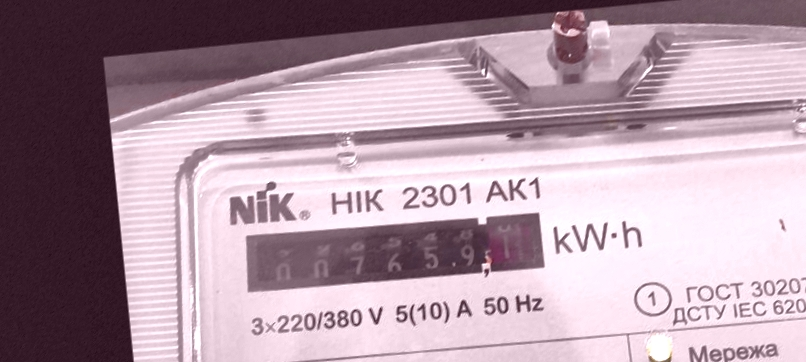0: (310, 256, 331, 283), (272, 259, 292, 287)
1: (497, 231, 514, 264)
5: (418, 243, 443, 272)
6: (383, 250, 404, 276)
7: (346, 254, 368, 280)
9: (456, 242, 477, 270)
screen: (231, 194, 557, 315)
